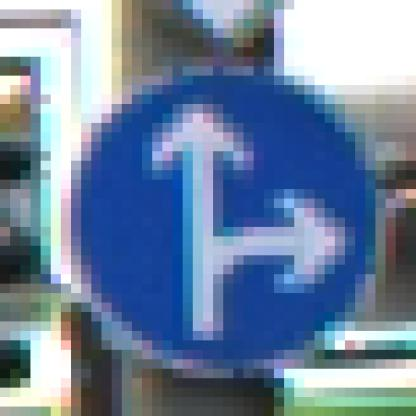Straight or Right: (62, 58, 366, 360)
